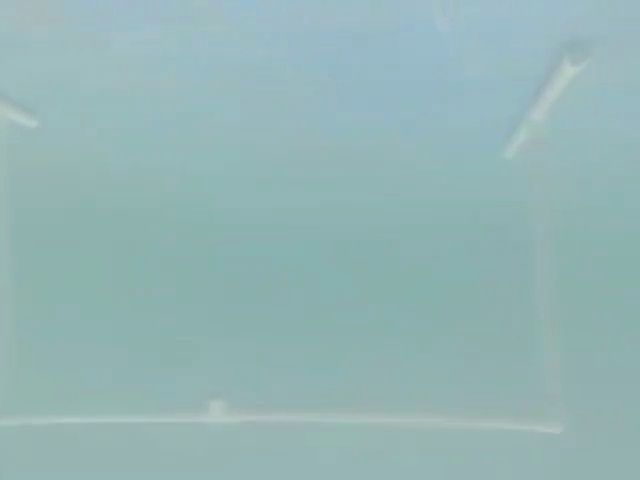gate: (4, 19, 618, 458)
